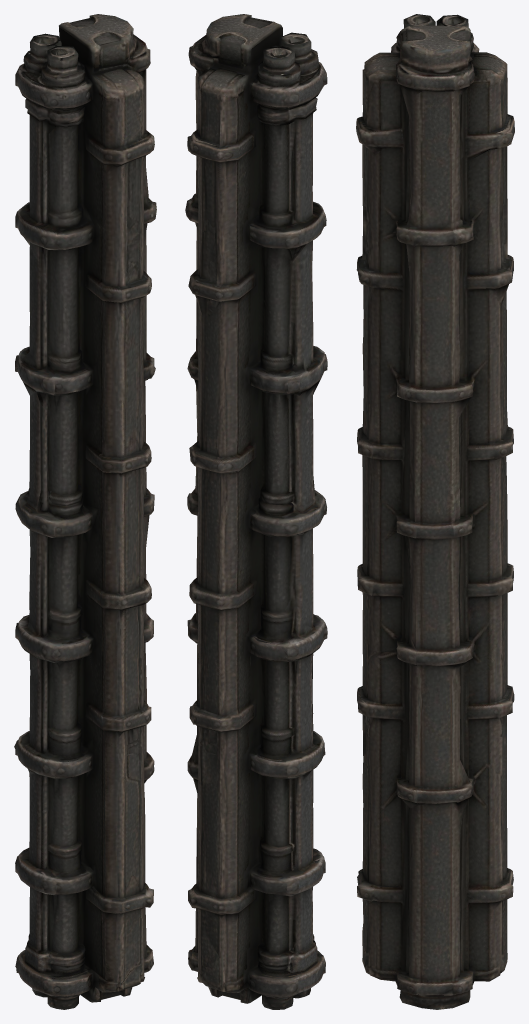
Rendered from metal+pipe+column+3d+model.glb.
The picture shows the model from 3 angles, left to right: view 1: azimuth 30°, elevation 25°; view 2: azimuth 150°, elevation 25°; view 3: azimuth 270°, elevation 25°; orthographic projection.
Visible parts, largest first — view 1: tripo_node_ca0b5155-9f93-44c3-b7ae-7065998fc4bf; view 2: tripo_node_ca0b5155-9f93-44c3-b7ae-7065998fc4bf; view 3: tripo_node_ca0b5155-9f93-44c3-b7ae-7065998fc4bf.
Part boxes in pixels (left/top/right/bottom): tripo_node_ca0b5155-9f93-44c3-b7ae-7065998fc4bf: left=14, top=14, right=156, bottom=1009; tripo_node_ca0b5155-9f93-44c3-b7ae-7065998fc4bf: left=185, top=14, right=327, bottom=1009; tripo_node_ca0b5155-9f93-44c3-b7ae-7065998fc4bf: left=356, top=14, right=514, bottom=1009.
Size of the model in its own units: 0.1277 by 0.9821 by 0.147.
1 material, 1 textured.
